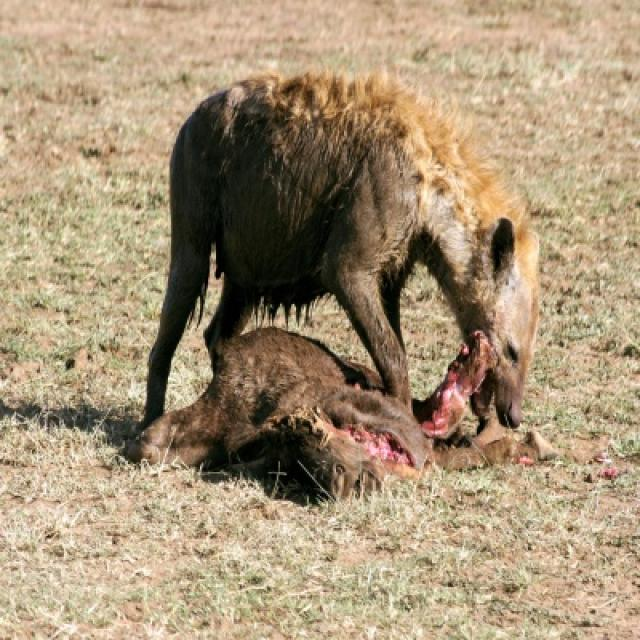hyena: (144, 72, 538, 426)
